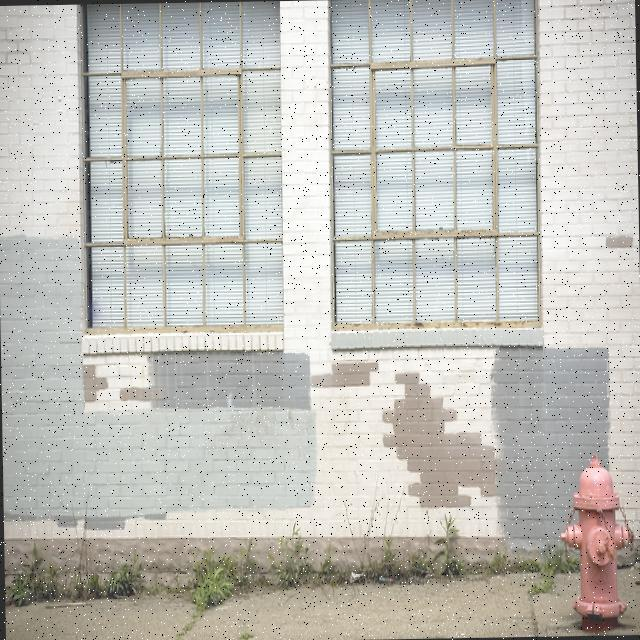fire_hydrant: (560, 453, 636, 628)
